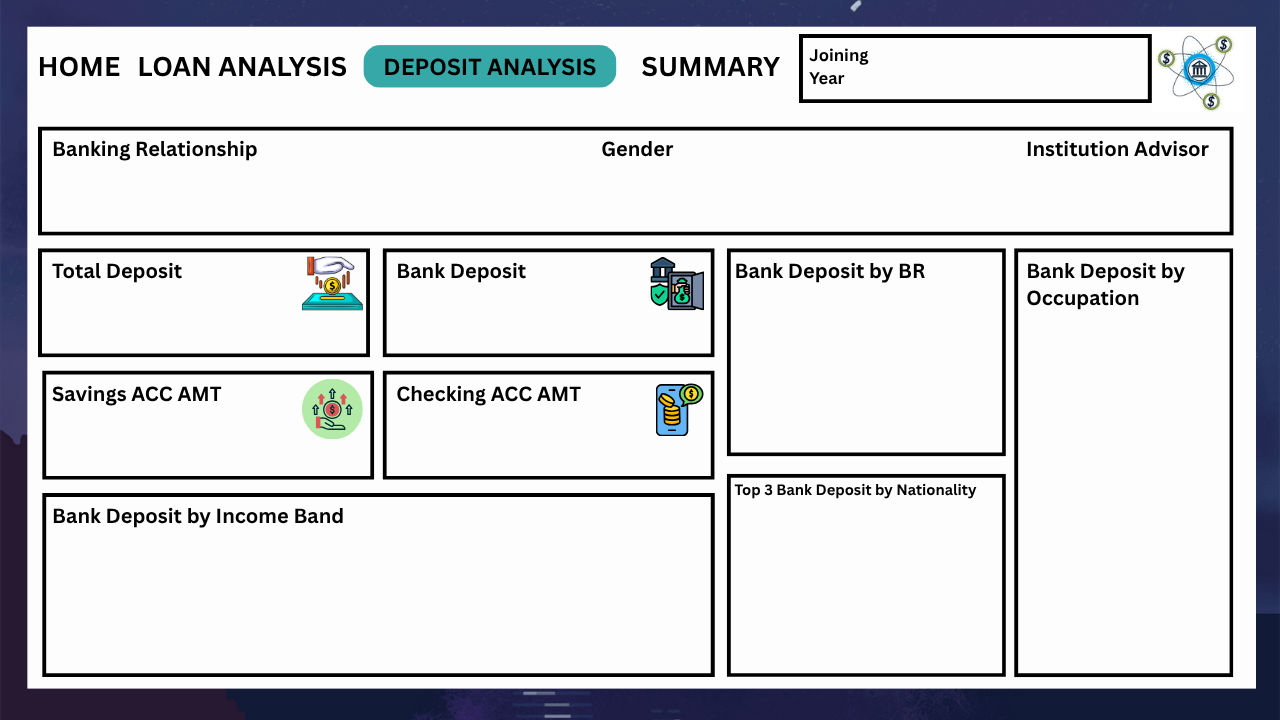

Layout of this report page (visuals, bound fields, positions):
{"tool":"powerbi","page":{"name":"Deposit_Analysis_Page","canvas":[1280,720],"ordinal":2},"visuals":[{"type":"actionButton","box":[27.5,46.7,100.4,39.9],"z":0},{"type":"actionButton","box":[127.9,46.7,224.1,39.9],"z":1000},{"type":"actionButton","box":[631.1,46.7,156.7,39.9],"z":2000},{"type":"slicer","fields":{"Values":["banking-clients.BRId"]},"box":[45.4,166.4,455.1,61.9],"z":3000},{"type":"slicer","fields":{"Values":["banking-clients.GenderId"]},"box":[507.3,171.9,354.7,52.2],"z":4000},{"type":"slicer","fields":{"Values":["banking-clients.IAId"]},"box":[884,171.9,328.6,49.5],"z":5000},{"type":"slicer","fields":{"Values":["banking-clients.Year"]},"box":[871.7,41.2,266.7,50.9],"z":6000},{"type":"card","fields":{"Values":["banking-clients.Total Deposits"]},"box":[45.4,284.6,240.6,61.9],"z":7000},{"type":"card","fields":{"Values":["Sum(banking-clients.Bank Deposits)"]},"box":[416.6,284.6,211.7,61.9],"z":8000},{"type":"card","fields":{"Values":["Sum(banking-clients.Saving Accounts)"]},"box":[64.6,408.3,221.4,63.2],"z":9000},{"type":"card","fields":{"Values":["Sum(banking-clients.Checking Accounts)"]},"box":[405.6,407,228.2,60.5],"z":10000},{"type":"donutChart","fields":{"Category":["banking-clients.Income Band"],"Y":["Sum(banking-clients.Bank Deposits)"]},"box":[78.4,536.2,462,126.5],"z":11000},{"type":"columnChart","fields":{"Y":["Sum(banking-clients.Bank Deposits)"],"Category":["banking-clients.BRId"]},"box":[743.8,291.5,254.4,156.7],"z":12000},{"type":"columnChart","fields":{"Y":["Sum(banking-clients.Bank Deposits)"],"Category":["banking-clients.Nationality"]},"box":[743.8,506,254.4,156.7],"z":13000},{"type":"columnChart","fields":{"Y":["Sum(banking-clients.Bank Deposits)"],"Category":["banking-clients.Occupation"]},"box":[1025.6,314.8,187,347.8],"z":14000}]}

Visuals, with their boxes in screenshot pixels (x1, y1, x2, y2), scaled from the page's 1280x720 canvas onto the 1280x720 screenshot:
actionButton: l=28, t=47, r=128, b=87
actionButton: l=128, t=47, r=352, b=87
actionButton: l=631, t=47, r=788, b=87
slicer - banking-clients.BRId: l=45, t=166, r=500, b=228
slicer - banking-clients.GenderId: l=507, t=172, r=862, b=224
slicer - banking-clients.IAId: l=884, t=172, r=1213, b=221
slicer - banking-clients.Year: l=872, t=41, r=1138, b=92
card - banking-clients.Total Deposits: l=45, t=285, r=286, b=346
card - Sum(banking-clients.Bank Deposits): l=417, t=285, r=628, b=346
card - Sum(banking-clients.Saving Accounts): l=65, t=408, r=286, b=472
card - Sum(banking-clients.Checking Accounts): l=406, t=407, r=634, b=468
donutChart - banking-clients.Income Band x Sum(banking-clients.Bank Deposits): l=78, t=536, r=540, b=663
columnChart - Sum(banking-clients.Bank Deposits) x banking-clients.BRId: l=744, t=292, r=998, b=448
columnChart - Sum(banking-clients.Bank Deposits) x banking-clients.Nationality: l=744, t=506, r=998, b=663
columnChart - Sum(banking-clients.Bank Deposits) x banking-clients.Occupation: l=1026, t=315, r=1213, b=663
